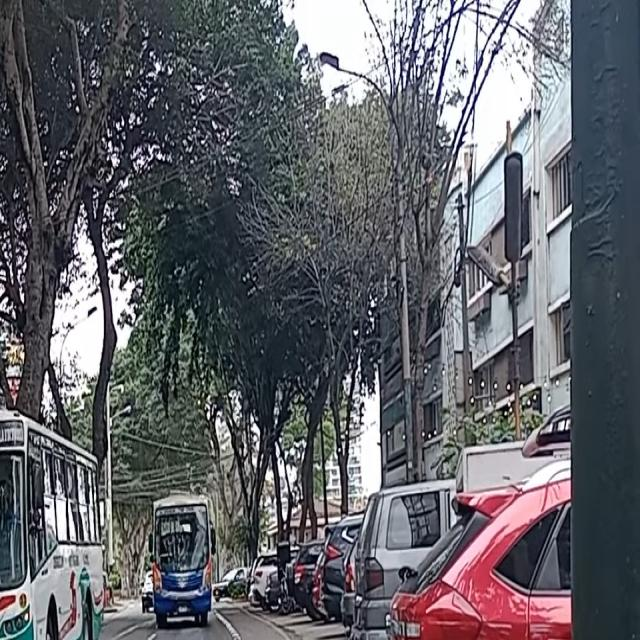bus: (0, 405, 105, 640), (143, 489, 214, 623)
